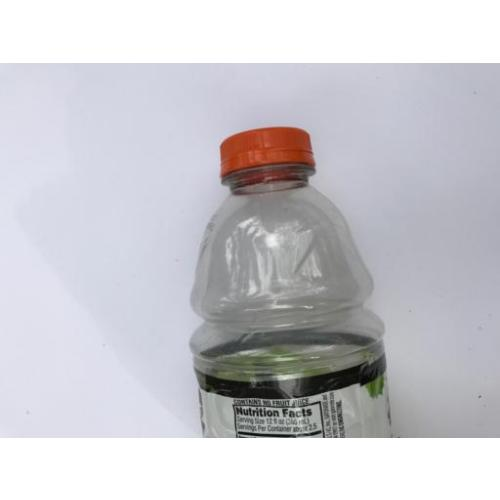plastic: (194, 127, 395, 438)
